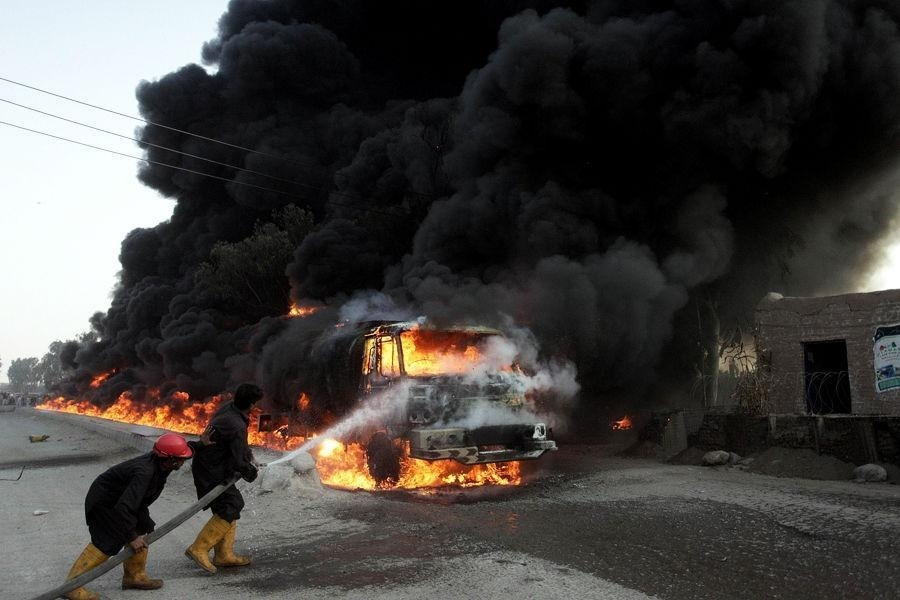fire: (48, 371, 534, 489), (363, 326, 478, 375)
